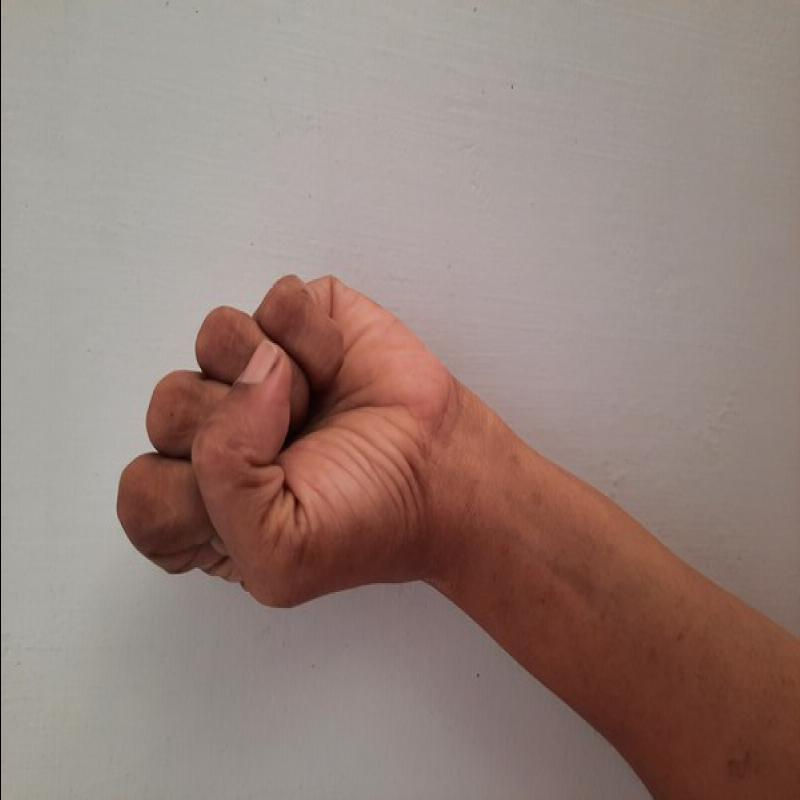Mushti: (101, 248, 487, 666)
